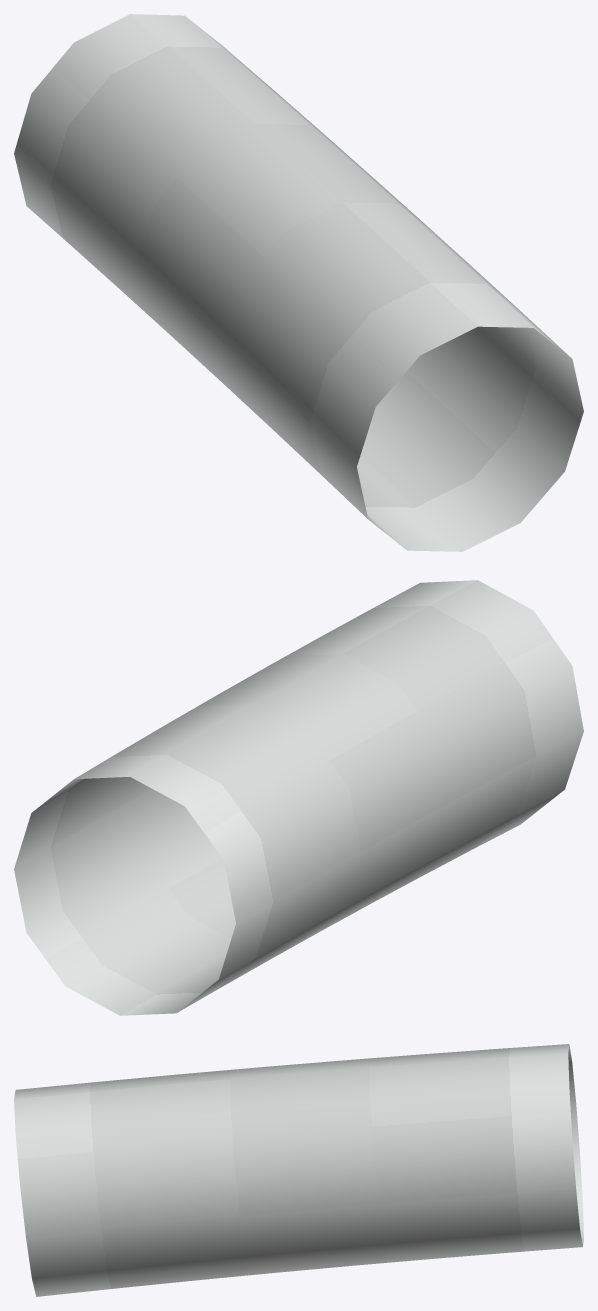
The model's file is luminairearm_truss15ft_c9.obj.
3 views of the same model, one above another, from view 1: azimuth 30°, elevation 25°; view 2: azimuth 150°, elevation 25°; view 3: azimuth 270°, elevation 25° (orthographic). The views are drawn at different scales.
Visible parts, largest first — view 1: luminairearm_truss15ft_c9; view 2: luminairearm_truss15ft_c9; view 3: luminairearm_truss15ft_c9.
Part boxes in pixels (<box>): luminairearm_truss15ft_c9: <box>14,14,583,551</box>; luminairearm_truss15ft_c9: <box>14,580,583,1015</box>; luminairearm_truss15ft_c9: <box>14,1044,583,1296</box>.
Bounding box in the file's own units: 0.1874 × 0.2319 × 0.5113.
